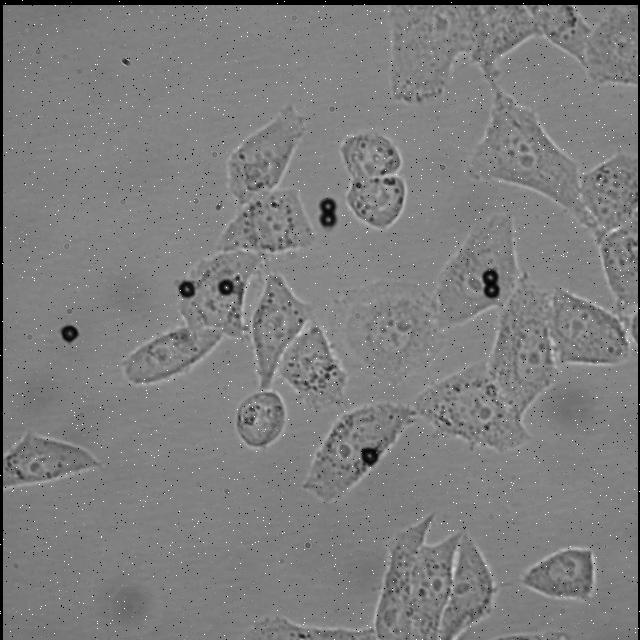microbeads: (359, 444, 378, 474), (174, 280, 196, 298), (316, 196, 338, 214), (216, 277, 234, 297), (481, 281, 499, 299), (316, 211, 336, 227), (476, 269, 498, 283), (58, 324, 76, 341)
